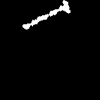half_double_crochet: (23, 1, 69, 28)
